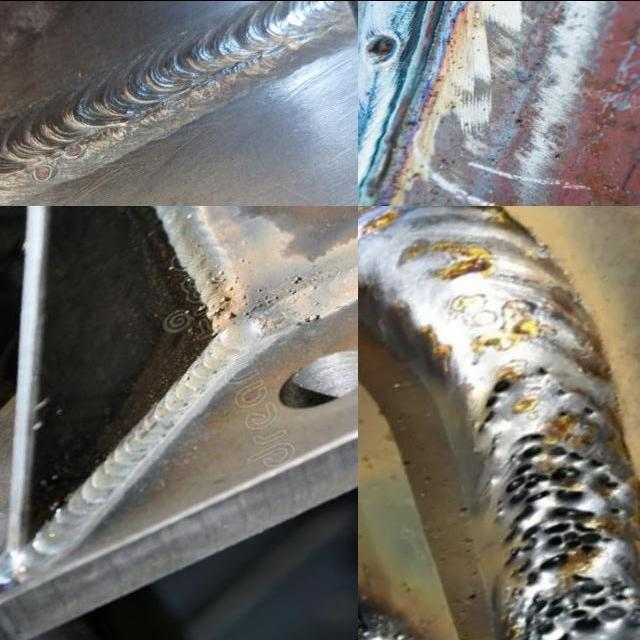defect: (491, 429, 640, 640), (207, 252, 281, 323), (471, 373, 517, 437), (363, 27, 403, 66), (288, 307, 329, 328), (27, 161, 56, 186), (58, 136, 87, 160), (160, 98, 185, 118), (192, 80, 216, 100), (285, 272, 304, 297), (529, 363, 552, 380), (552, 385, 571, 397), (581, 404, 597, 415), (556, 407, 568, 418)
